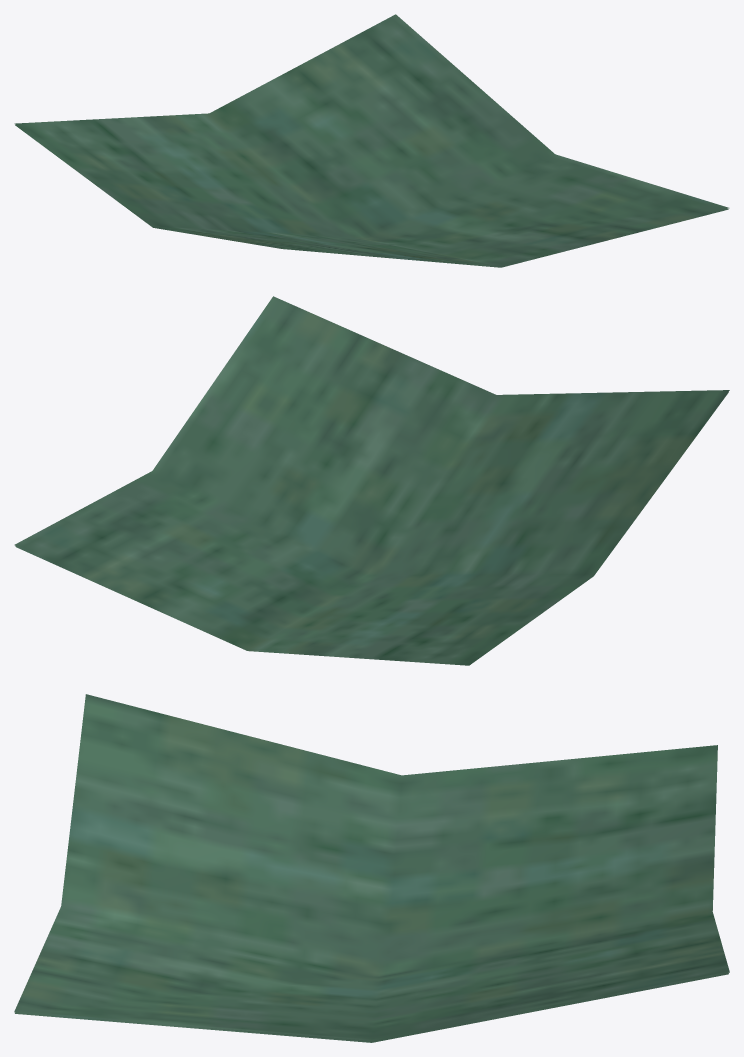
The model's file is poi_nboo_tent_small_l3.fbx.
The picture shows the model from 3 angles, top to bottom: view 1: azimuth 30°, elevation 25°; view 2: azimuth 150°, elevation 25°; view 3: azimuth 270°, elevation 25°; orthographic projection. The views are drawn at different scales.
Parts seen in each view (by area): view 1: mesh_node; view 2: mesh_node; view 3: mesh_node.
Boxes of the visible parts, x1,y1,x2,y2 form: mesh_node: [14, 14, 729, 267]; mesh_node: [14, 296, 729, 665]; mesh_node: [14, 694, 729, 1042].
Size of the model in its own units: 4.8 by 1.31 by 5.24.
1 material, 1 textured.
